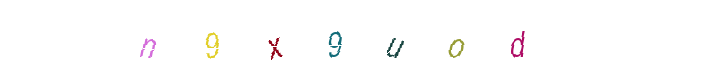9: (241, 0, 321, 80), (318, 0, 398, 80)
D: (410, 0, 490, 80)
N: (187, 0, 267, 80)
O: (368, 0, 448, 80)
U: (323, 0, 403, 80)
X: (312, 0, 392, 80)
